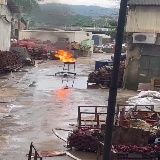fire: (55, 50, 74, 62)
